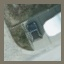car: (26, 21, 41, 41)
